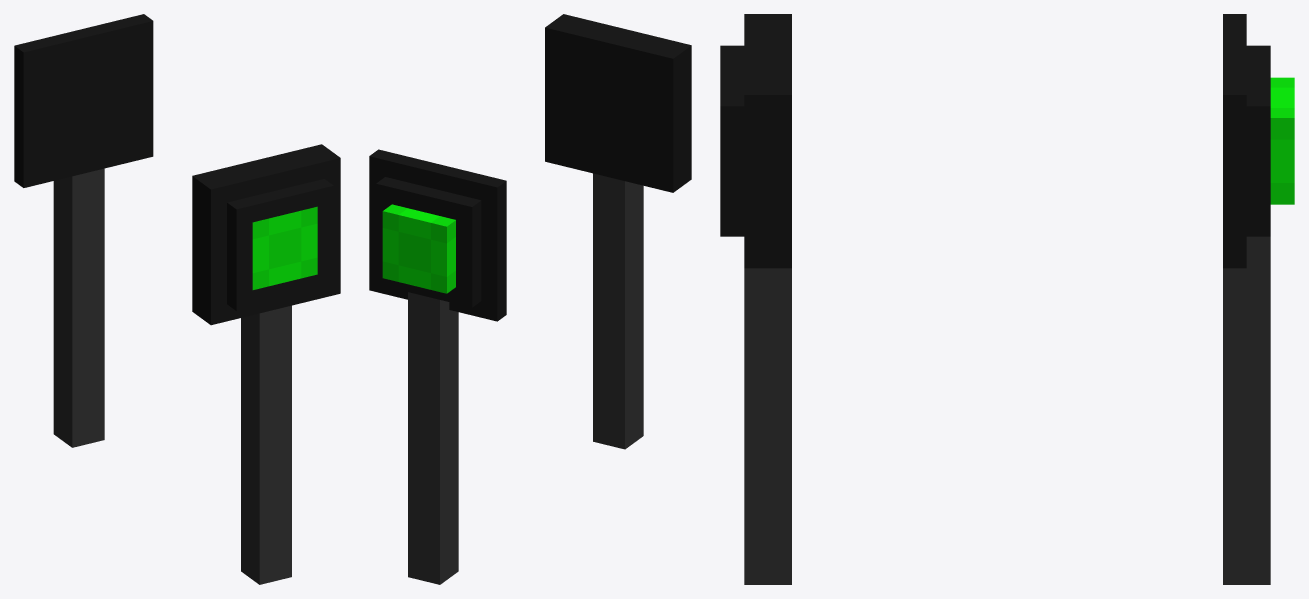
The model's file is Ampel grün.obj.
The picture shows the model from 3 angles, left to right: view 1: azimuth 30°, elevation 25°; view 2: azimuth 150°, elevation 25°; view 3: azimuth 270°, elevation 25°; orthographic projection. The views are drawn at different scales.
Bounding box in the file's own units: 0.8 × 2.4 × 2.4.
1 material, 1 textured.
